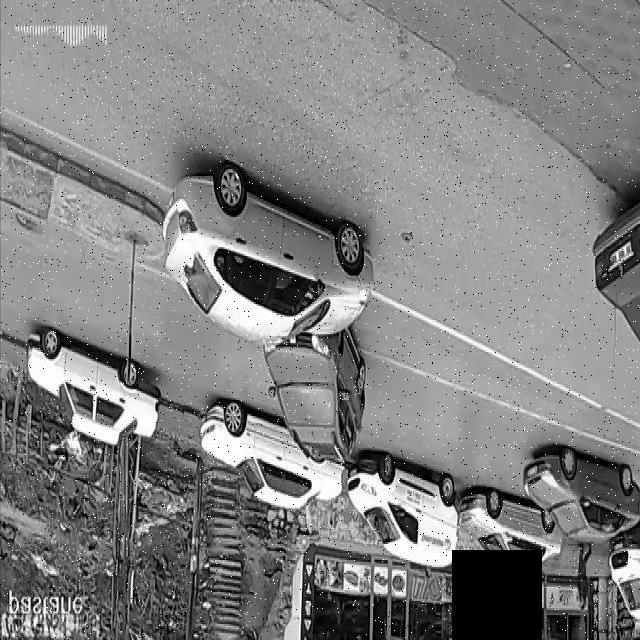moderate: (157, 160, 376, 471)
